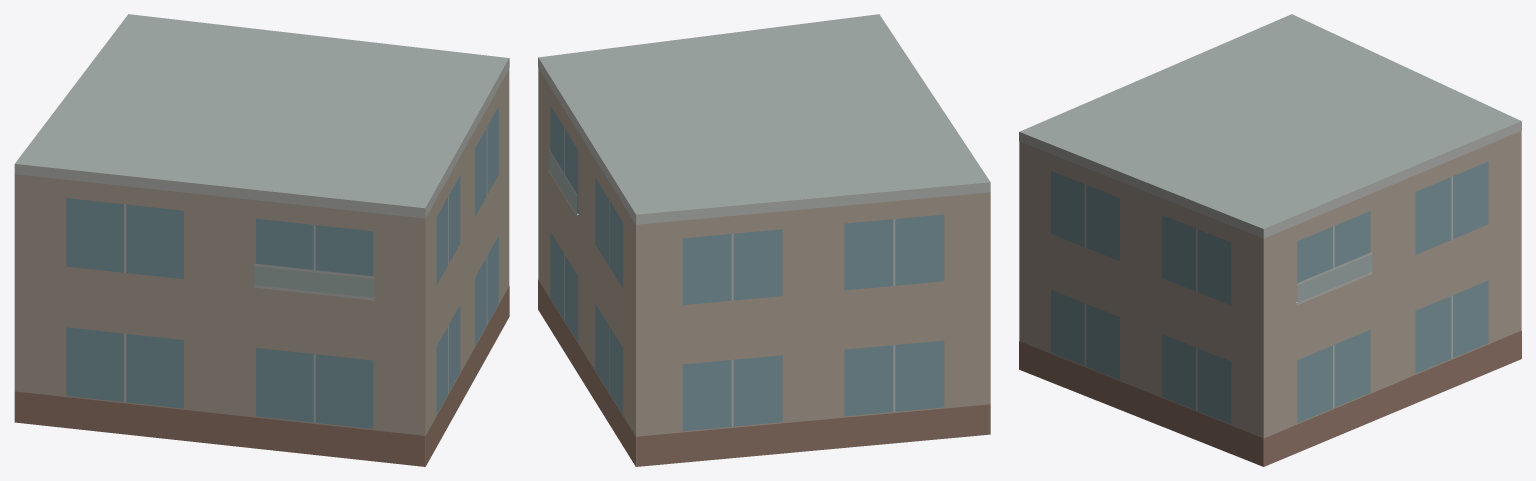
The model's file is survey-upis-33017571.glb.
3 views of the same model, side by side, from view 1: azimuth 30°, elevation 25°; view 2: azimuth 150°, elevation 25°; view 3: azimuth 270°, elevation 25° (orthographic). The views are drawn at different scales.
Parts seen in each view (by area): view 1: survey-upis-33017571.tmp; view 2: survey-upis-33017571.tmp; view 3: survey-upis-33017571.tmp.
Boxes of the visible parts, left/top/right/bottom form: survey-upis-33017571.tmp: left=14, top=14, right=509, bottom=466; survey-upis-33017571.tmp: left=538, top=14, right=990, bottom=466; survey-upis-33017571.tmp: left=1019, top=14, right=1521, bottom=466.
Bounding box in the file's own units: 11.84 × 6.1 × 11.69.
